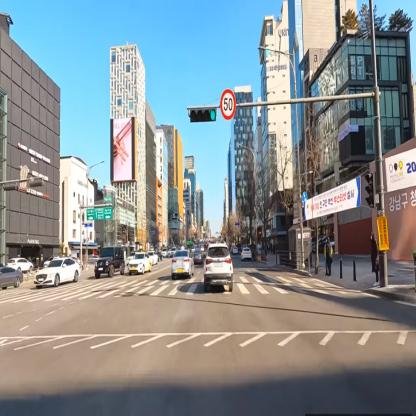Green: (188, 105, 216, 123)
